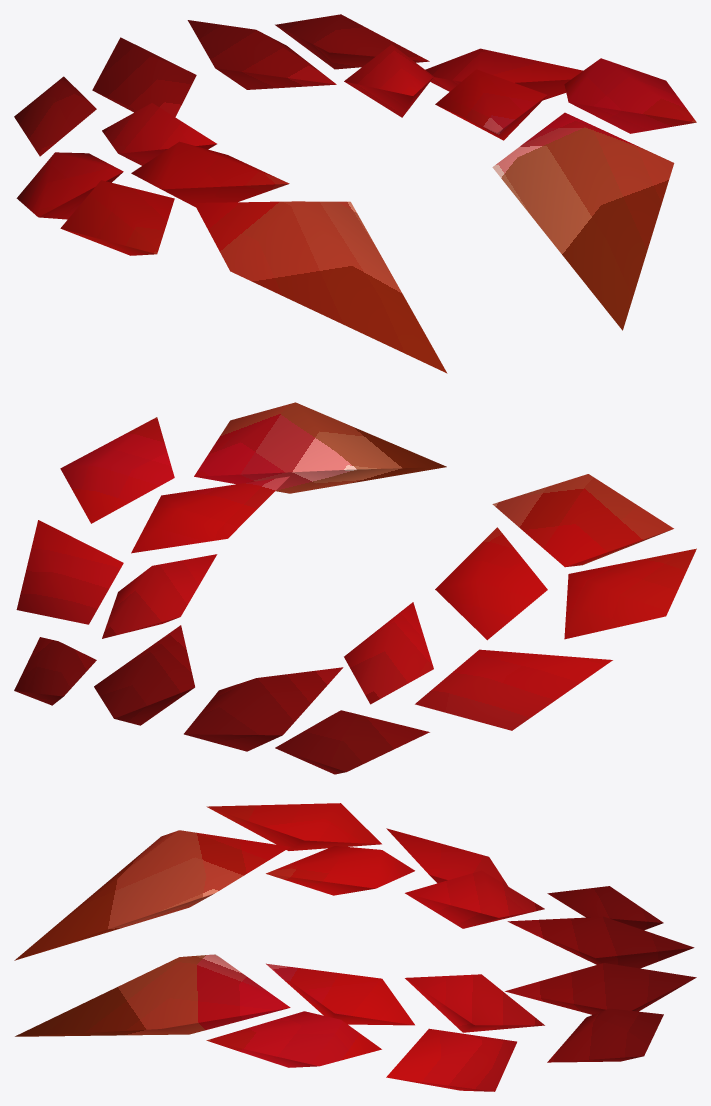
The model's file is protectguild.glb.
3 views of the same model, one above another, from view 1: azimuth 30°, elevation 25°; view 2: azimuth 150°, elevation 25°; view 3: azimuth 270°, elevation 25° (orthographic). The views are drawn at different scales.
Parts seen in each view (by area): view 1: model_protectguild; view 2: model_protectguild; view 3: model_protectguild.
Part boxes in pixels (x1,y1,x2,y2): model_protectguild: [14, 14, 696, 373]; model_protectguild: [14, 402, 696, 774]; model_protectguild: [14, 803, 696, 1091].
Size of the model in its own units: 0.0897 by 0.017 by 0.0986.
Materials: 1 (1 with a texture image).
